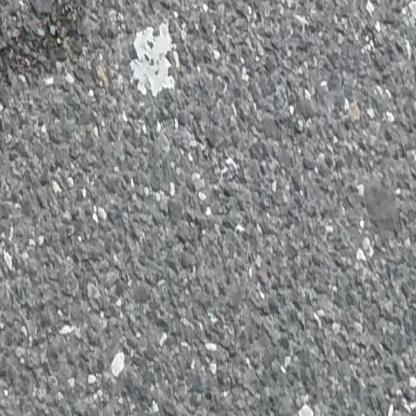Cracks: (0, 0, 85, 94)
